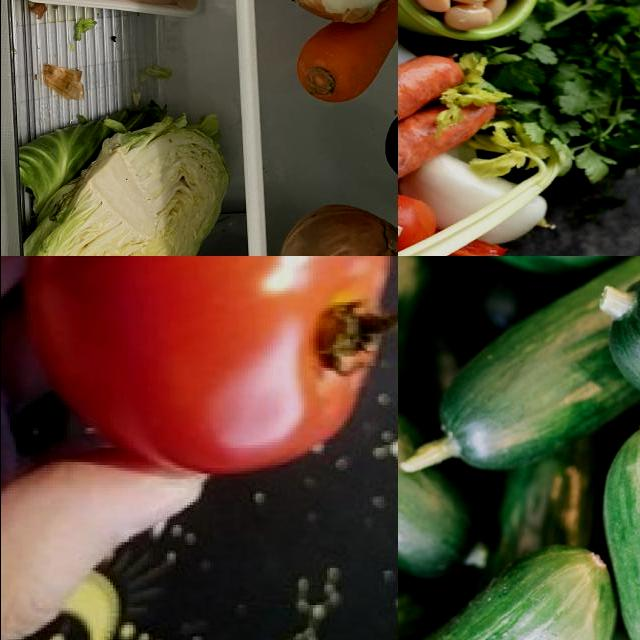cabbage: (10, 106, 234, 257)
carrot: (291, 1, 398, 107), (398, 98, 491, 152), (398, 58, 455, 113)
cucumber: (436, 257, 640, 476), (398, 540, 623, 640), (398, 257, 640, 291)
onion: (268, 202, 398, 257), (274, 1, 396, 28)
tomato: (10, 257, 398, 484)
